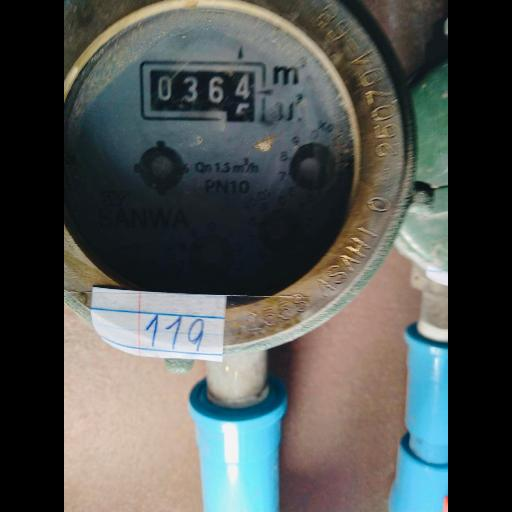0: (150, 71, 177, 112)
3: (177, 71, 204, 112)
4: (227, 70, 255, 122)
6: (202, 71, 228, 113)
border_water_meter_number: (138, 60, 266, 123)
